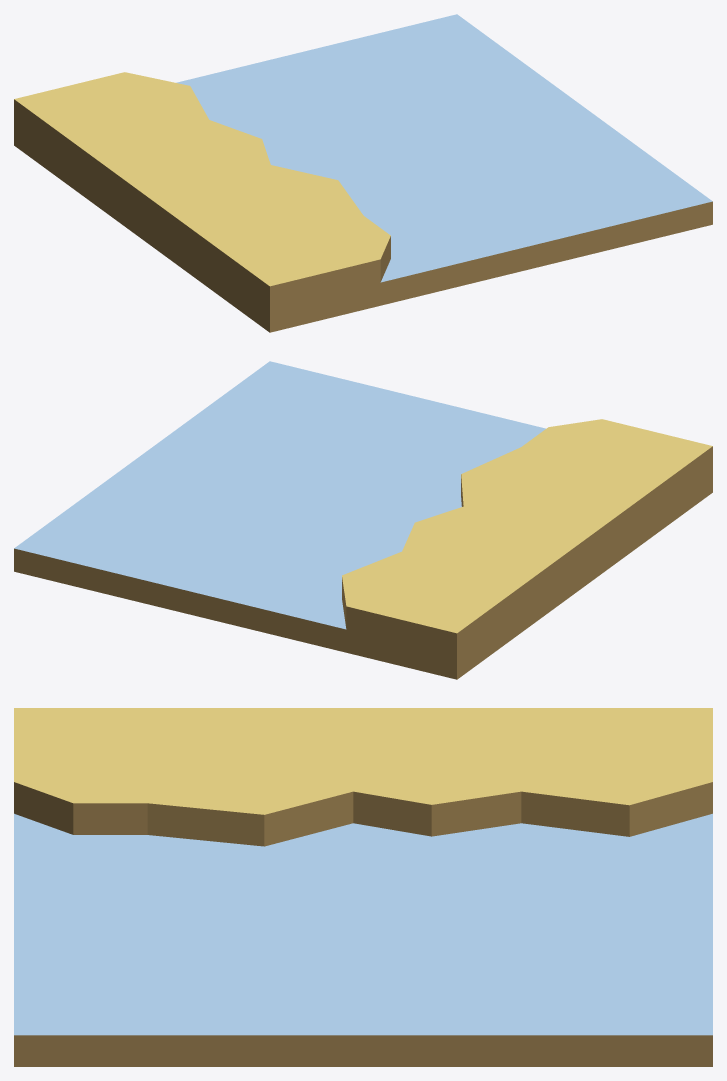
Rendered from Terrain_Modular_Tiles_Sand_Dirt_Water_Edge_Straight_02.fbx.
3 renders of one model, top to bottom at view 1: azimuth 30°, elevation 25°; view 2: azimuth 150°, elevation 25°; view 3: azimuth 270°, elevation 25°, orthographic. The views are drawn at different scales.
Visible parts, largest first — view 1: Terrain_Modular_Tiles_Sand_Dirt_Water_Edge_Straight_02; view 2: Terrain_Modular_Tiles_Sand_Dirt_Water_Edge_Straight_02; view 3: Terrain_Modular_Tiles_Sand_Dirt_Water_Edge_Straight_02.
Boxes of the visible parts, x1,y1,x2,y2 form: Terrain_Modular_Tiles_Sand_Dirt_Water_Edge_Straight_02: [14, 14, 712, 332]; Terrain_Modular_Tiles_Sand_Dirt_Water_Edge_Straight_02: [14, 361, 712, 679]; Terrain_Modular_Tiles_Sand_Dirt_Water_Edge_Straight_02: [14, 708, 712, 1066].
Size of the model in its own units: 118 by 11.81 by 118.
